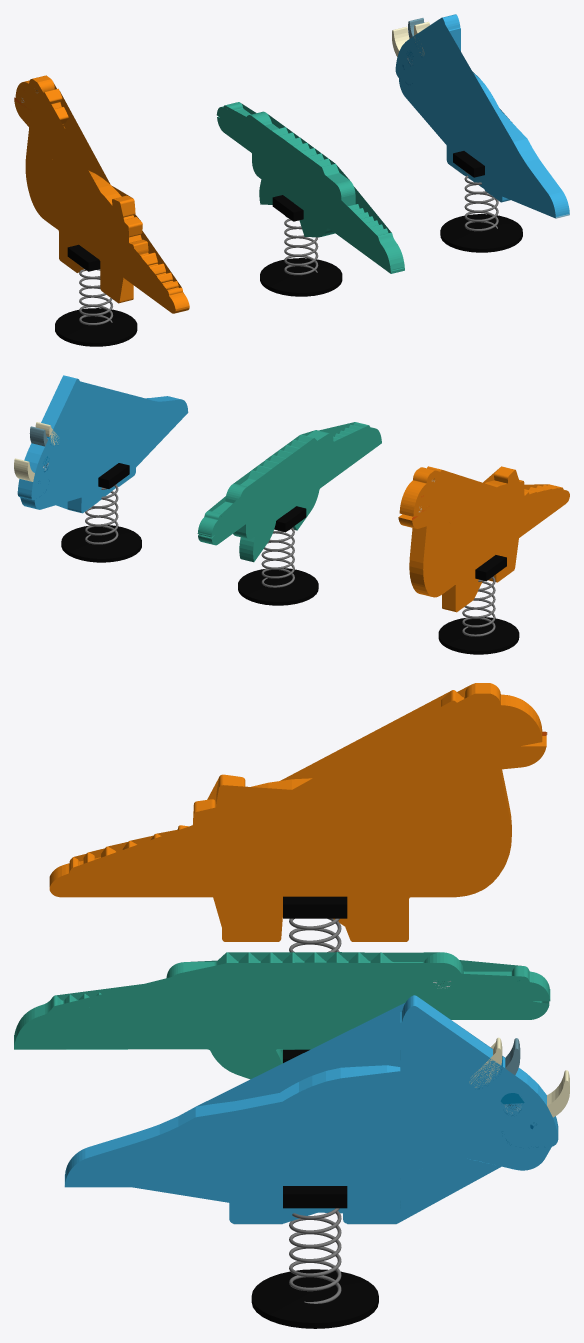
Rendered from oraurus.fbx.
3 renders of one model, top to bottom at view 1: azimuth 30°, elevation 25°; view 2: azimuth 150°, elevation 25°; view 3: azimuth 270°, elevation 25°, orthographic. The views are drawn at different scales.
Visible parts, largest first — view 1: Curve, Curve.034, Curve.015, Cylinder.002, Cylinder.001, Cylinder, Circle, Circle.002, Circle.001, Cube.001, Cube.002, Cube; view 2: Curve, Curve.034, Curve.015, Cylinder.001, Cylinder.002, Cylinder, Circle, Circle.002, Circle.001, Cube.001, Cube.002, Cube; view 3: Curve, Curve.034, Curve.015, Cylinder.002, Circle.002, Cube.001, Cube.002, Circle.001.
Part boxes in pixels (x1=…): Curve: x1=14, y1=75, x2=189, y2=313; Curve.034: x1=392, y1=14, x2=569, y2=218; Curve.015: x1=216, y1=102, x2=404, y2=273; Cylinder.002: x1=440, y1=214, x2=522, y2=252; Cylinder.001: x1=55, y1=308, x2=137, y2=346; Cylinder: x1=260, y1=258, x2=342, y2=296; Circle: x1=284, y1=216, x2=318, y2=275; Circle.002: x1=464, y1=171, x2=498, y2=231; Circle.001: x1=79, y1=266, x2=113, y2=325; Cube.001: x1=67, y1=244, x2=100, y2=271; Cube.002: x1=453, y1=151, x2=484, y2=177; Cube: x1=272, y1=195, x2=303, y2=221; Curve: x1=398, y1=466, x2=569, y2=612; Curve.034: x1=14, y1=375, x2=188, y2=513; Curve.015: x1=197, y1=422, x2=381, y2=562; Cylinder.001: x1=438, y1=617, x2=519, y2=654; Cylinder.002: x1=61, y1=525, x2=141, y2=562; Cylinder: x1=238, y1=568, x2=318, y2=605; Circle: x1=261, y1=527, x2=294, y2=587; Circle.002: x1=85, y1=484, x2=118, y2=544; Circle.001: x1=462, y1=576, x2=495, y2=636; Cube.001: x1=475, y1=555, x2=506, y2=581; Cube.002: x1=98, y1=463, x2=129, y2=488; Cube: x1=274, y1=506, x2=306, y2=532; Curve: x1=49, y1=683, x2=547, y2=941; Curve.034: x1=64, y1=995, x2=569, y2=1224; Curve.015: x1=14, y1=952, x2=550, y2=1079; Cylinder.002: x1=251, y1=1269, x2=378, y2=1328; Circle.002: x1=289, y1=1208, x2=341, y2=1303; Cube.001: x1=283, y1=896, x2=347, y2=918; Cube.002: x1=283, y1=1186, x2=347, y2=1208; Circle.001: x1=289, y1=918, x2=341, y2=952.
Size of the model in its own units: 505 by 222 by 345.
